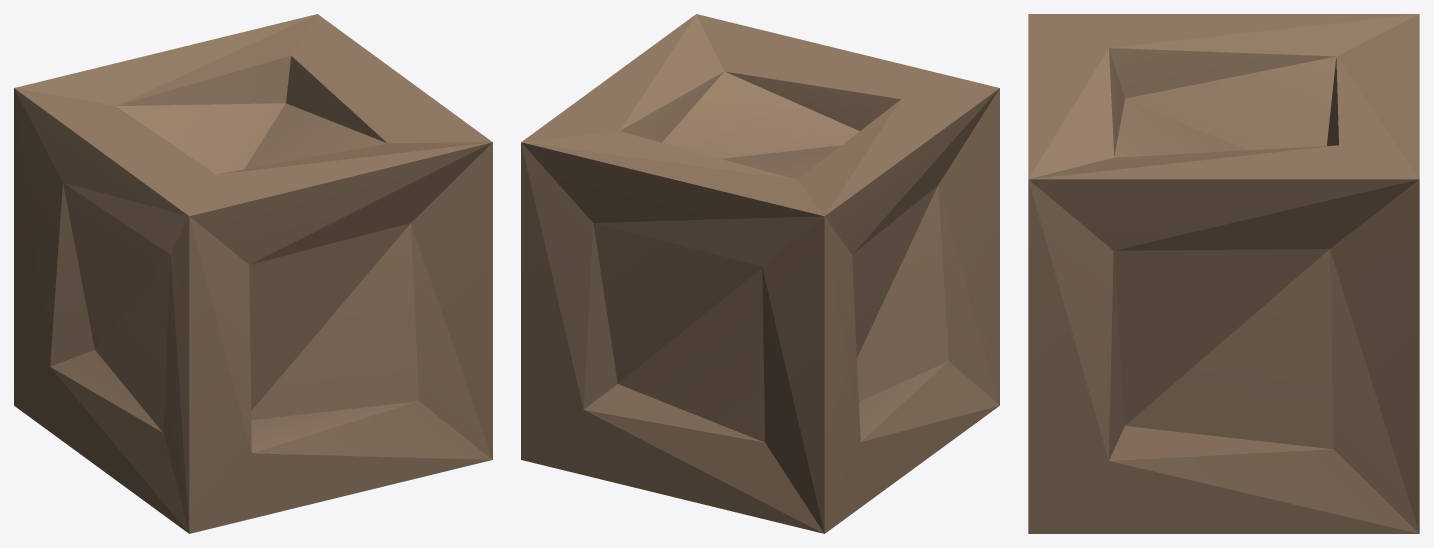
File: life_crate.glb
The picture shows the model from 3 angles, left to right: view 1: azimuth 30°, elevation 25°; view 2: azimuth 150°, elevation 25°; view 3: azimuth 270°, elevation 25°; orthographic projection. The views are drawn at different scales.
Visible parts, largest first — view 1: life_crate; view 2: life_crate; view 3: life_crate.
Part boxes in pixels (box(x1,y1,x2,y2)): life_crate: box(14, 14, 492, 533); life_crate: box(521, 14, 999, 533); life_crate: box(1028, 14, 1419, 533).
Bounding box in the file's own units: 0.161 × 0.161 × 0.161.
